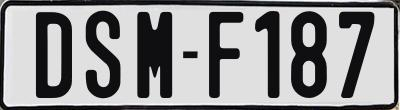1: (255, 11, 281, 101)
7: (339, 11, 377, 103)
8: (290, 10, 326, 103)
D: (35, 10, 75, 99)
F: (209, 9, 245, 98)
M: (137, 11, 177, 100)
S: (83, 8, 121, 100)
